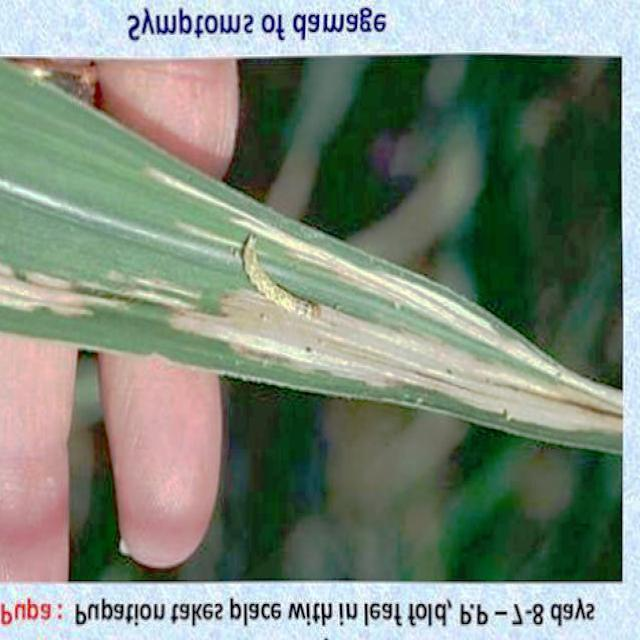leaf-folder: (223, 223, 333, 333)
